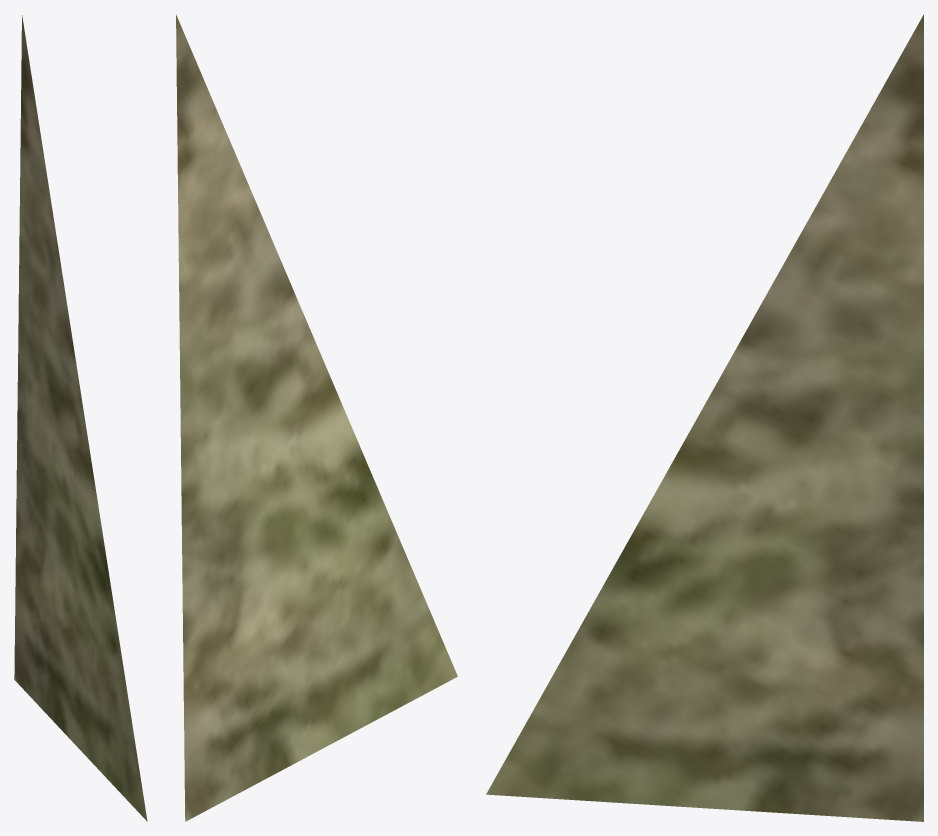
3 renders of one model, left to right at view 1: azimuth 30°, elevation 25°; view 2: azimuth 150°, elevation 25°; view 3: azimuth 270°, elevation 25°, orthographic. The views are drawn at different scales.
Bounding box in the file's own units: 0.198 × 2.35 × 1.15.
Materials: 1 (1 with a texture image).
